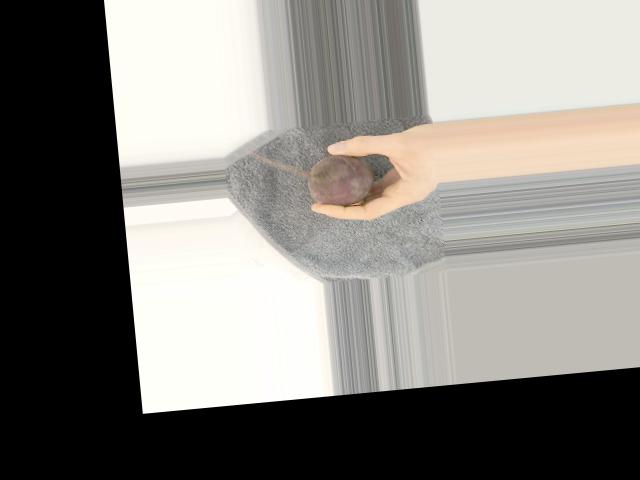beet: (305, 151, 375, 208)
